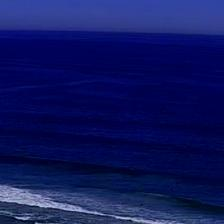surfer: (136, 204, 144, 206), (176, 181, 179, 185), (170, 188, 174, 190)
